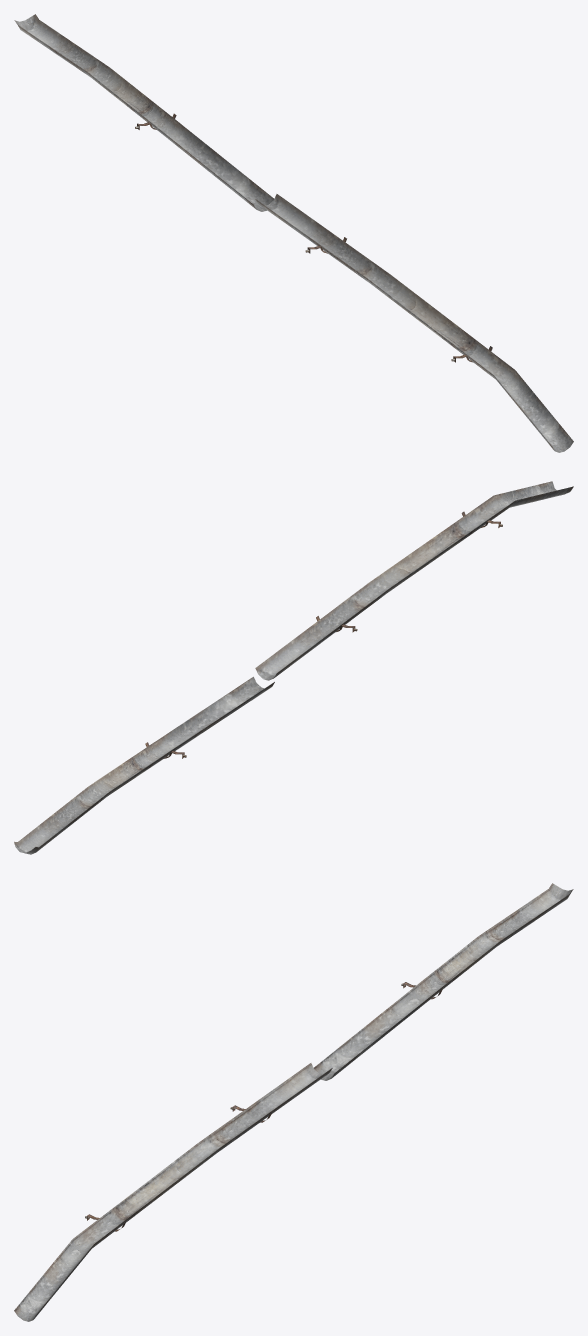
File: Drain_02.FBX
3 renders of one model, top to bottom at view 1: azimuth 30°, elevation 25°; view 2: azimuth 150°, elevation 25°; view 3: azimuth 330°, elevation 25°, orthographic.
Visible parts, largest first — view 1: Drain_02; view 2: Drain_02; view 3: Drain_02.
Part boxes in pixels (<box>): Drain_02: <box>14,14,573,452</box>; Drain_02: <box>14,481,573,854</box>; Drain_02: <box>14,883,573,1321</box>.
Size of the model in its own units: 50.22 by 1179 by 52.38.
Materials: 1 (1 with a texture image).
